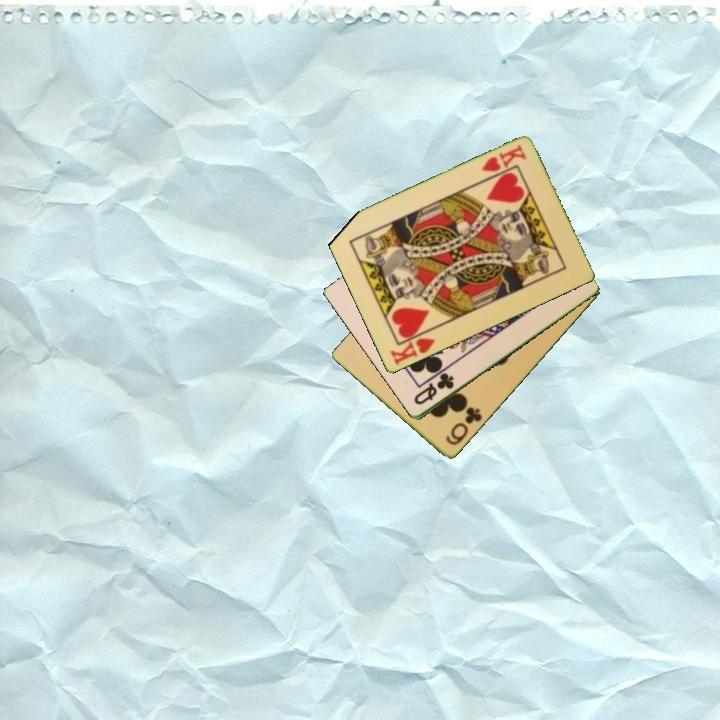6c: (442, 404, 485, 449)
Kh: (387, 326, 438, 368), (478, 142, 529, 175)
Qc: (410, 369, 457, 408)
